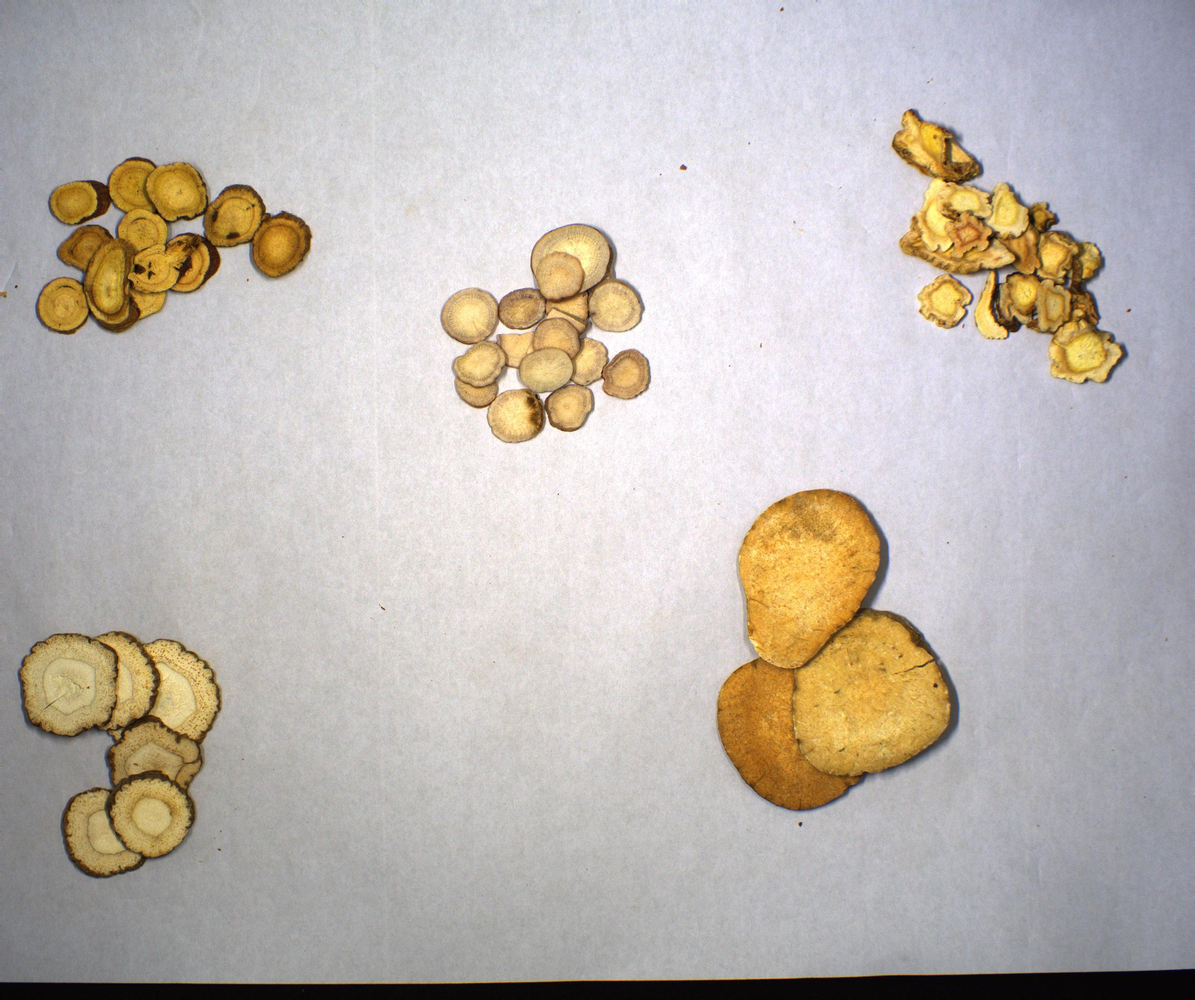baishao: (435, 221, 652, 440)
baizhi: (12, 629, 228, 886)
gancaopian: (33, 152, 308, 334)
jiegeng: (892, 104, 1124, 382)
zexie: (715, 485, 954, 816)
